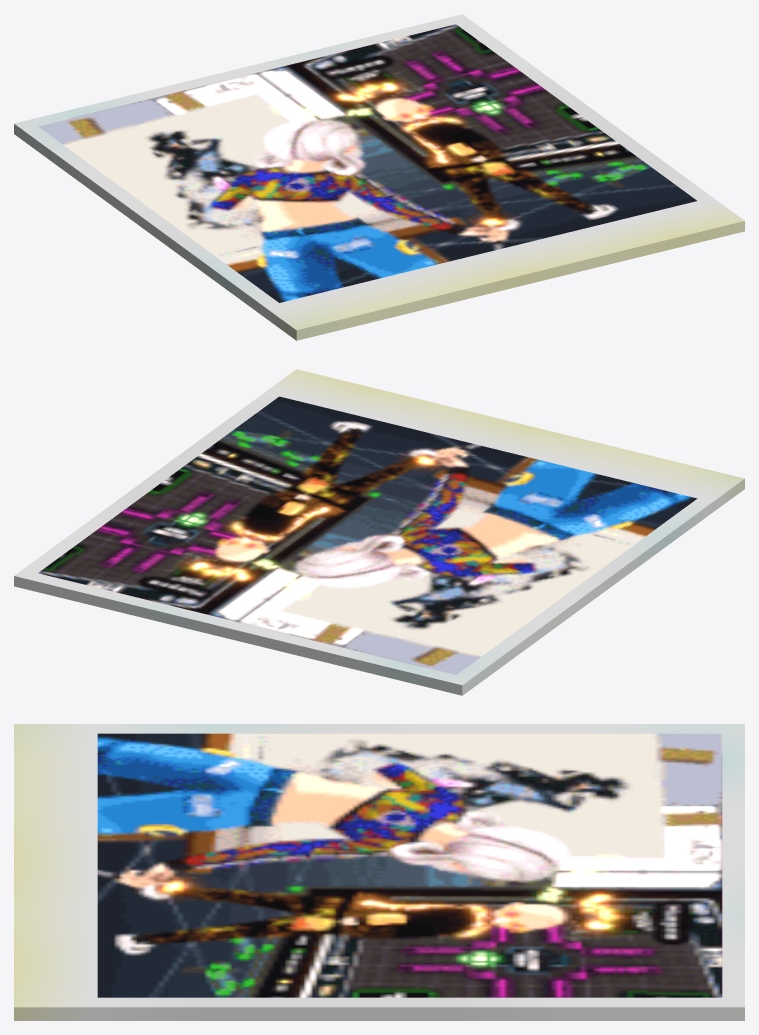
The model's file is polaroidB.glb.
The picture shows the model from 3 angles, top to bottom: view 1: azimuth 30°, elevation 25°; view 2: azimuth 150°, elevation 25°; view 3: azimuth 270°, elevation 25°; orthographic projection. The views are drawn at different scales.
Parts seen in each view (by area): view 1: PolaroidB; view 2: PolaroidB; view 3: PolaroidB.
Boxes of the visible parts, box(x1,y1,x2,y2) form: PolaroidB: box(14, 14, 744, 340); PolaroidB: box(14, 369, 744, 695); PolaroidB: box(14, 724, 744, 1020).
Size of the model in its own units: 0.561 by 0.0125 by 0.6121.
Materials: 2 (2 with a texture image).
